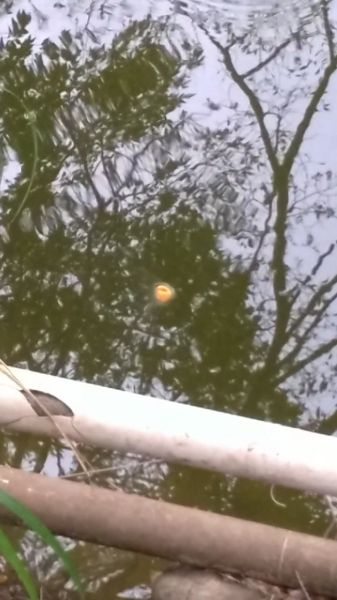eggs: (148, 277, 179, 304)
